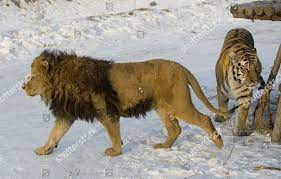lion: (10, 47, 230, 156)
tiger: (214, 25, 269, 141)
